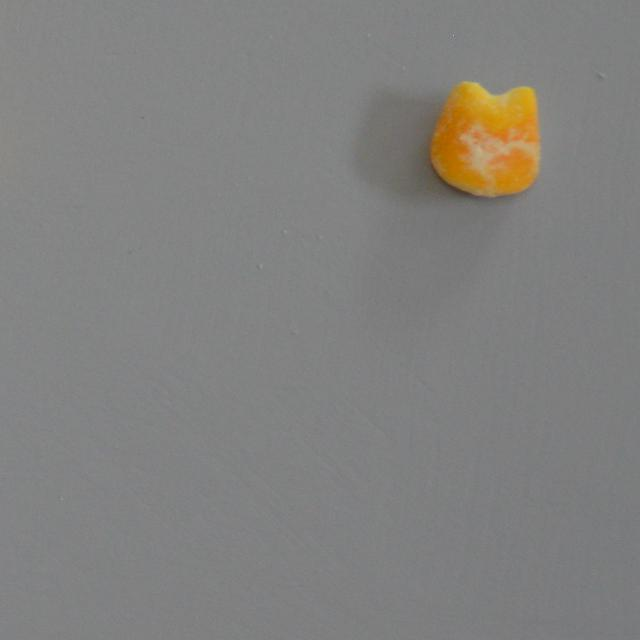pelicula: (428, 78, 540, 198)
